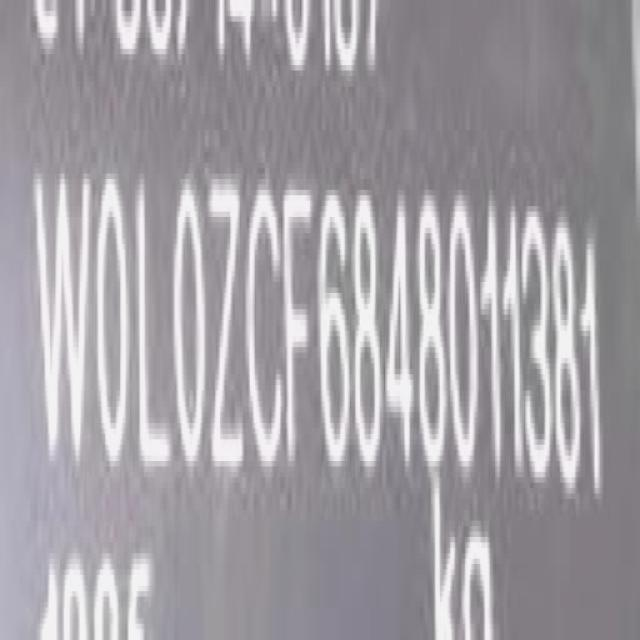0: (96, 172, 132, 483), (174, 177, 209, 486), (449, 196, 480, 476)
1: (580, 214, 602, 503), (481, 198, 503, 482), (503, 196, 523, 487)
3: (525, 213, 552, 489)
4: (387, 190, 418, 478)
6: (318, 184, 350, 479)
8: (417, 191, 448, 477), (352, 189, 382, 477), (554, 213, 580, 496)
C: (248, 177, 284, 481)
F: (286, 178, 318, 481)
L: (134, 172, 171, 484)
W: (35, 165, 90, 482)
Z: (210, 174, 247, 484)
